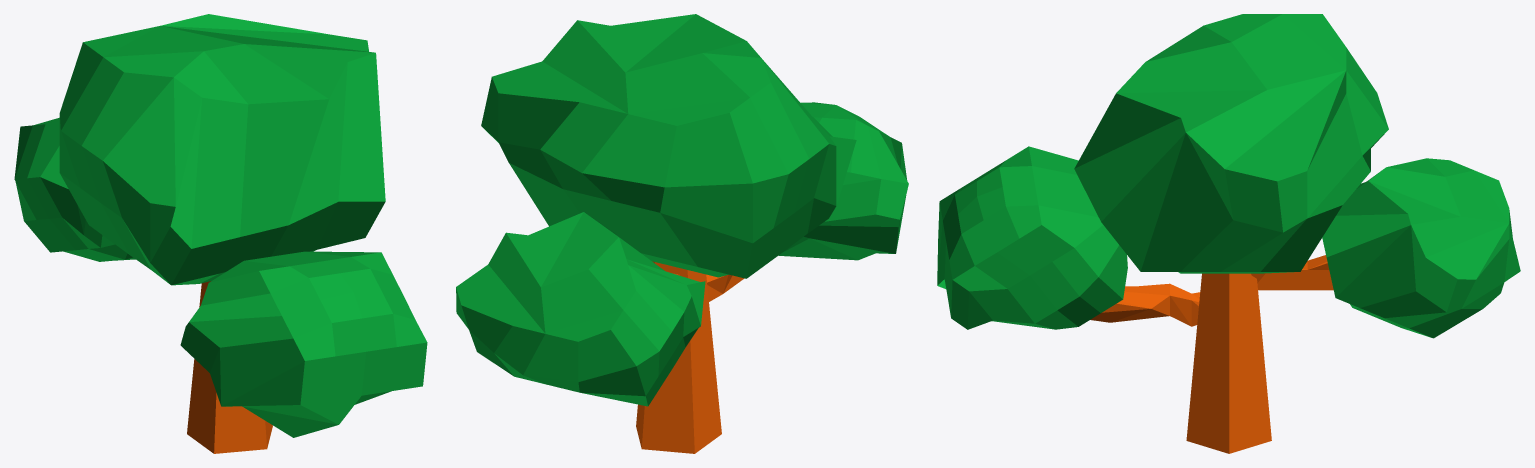
Rendered from tree.FBX.
3 renders of one model, left to right at view 1: azimuth 30°, elevation 25°; view 2: azimuth 150°, elevation 25°; view 3: azimuth 270°, elevation 25°, orthographic. The views are drawn at different scales.
Visible parts, largest first — view 1: Plane001, Gengon001; view 2: Plane001, Gengon001, Box002; view 3: Plane001, Gengon001, Box002, Box001.
Part boxes in pixels (x1,y1,x2,y2): Plane001: (14,14,427,437); Gengon001: (187,281,272,453); Plane001: (456,14,908,406); Gengon001: (636,261,721,453); Box002: (706,274,744,301); Plane001: (937,14,1520,338); Gengon001: (1186,273,1271,453); Box002: (1090,283,1200,326); Box001: (1251,255,1333,290).
Bounding box in the file's own units: 85.24 × 103 × 143.
